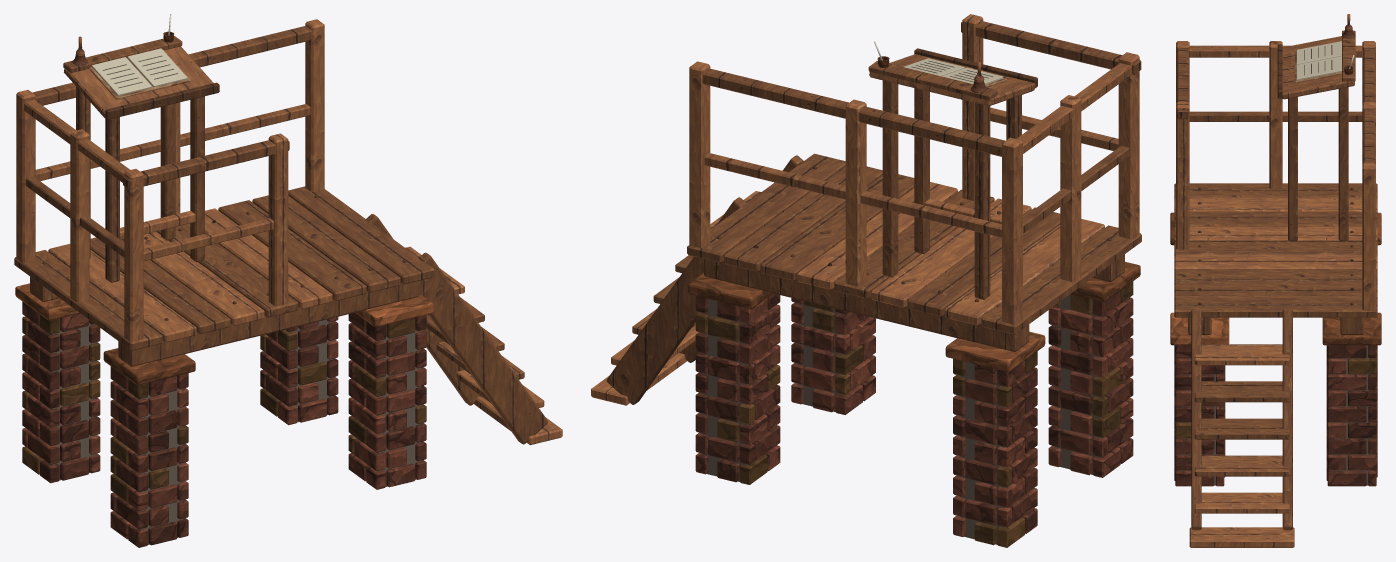
Rendered from hw_overseer_platform.glb.
The picture shows the model from 3 angles, left to right: view 1: azimuth 30°, elevation 25°; view 2: azimuth 150°, elevation 25°; view 3: azimuth 270°, elevation 25°; orthographic projection. The views are drawn at different scales.
Parts seen in each view (by area): view 1: model; view 2: model; view 3: model.
Part boxes in pixels (x1,y1,x2,y2): model: (14,14,562,547); model: (591,14,1141,547); model: (1170,14,1381,547).
Size of the model in its own units: 2.6 by 2.41 by 1.25.
20 materials, 16 textured.
